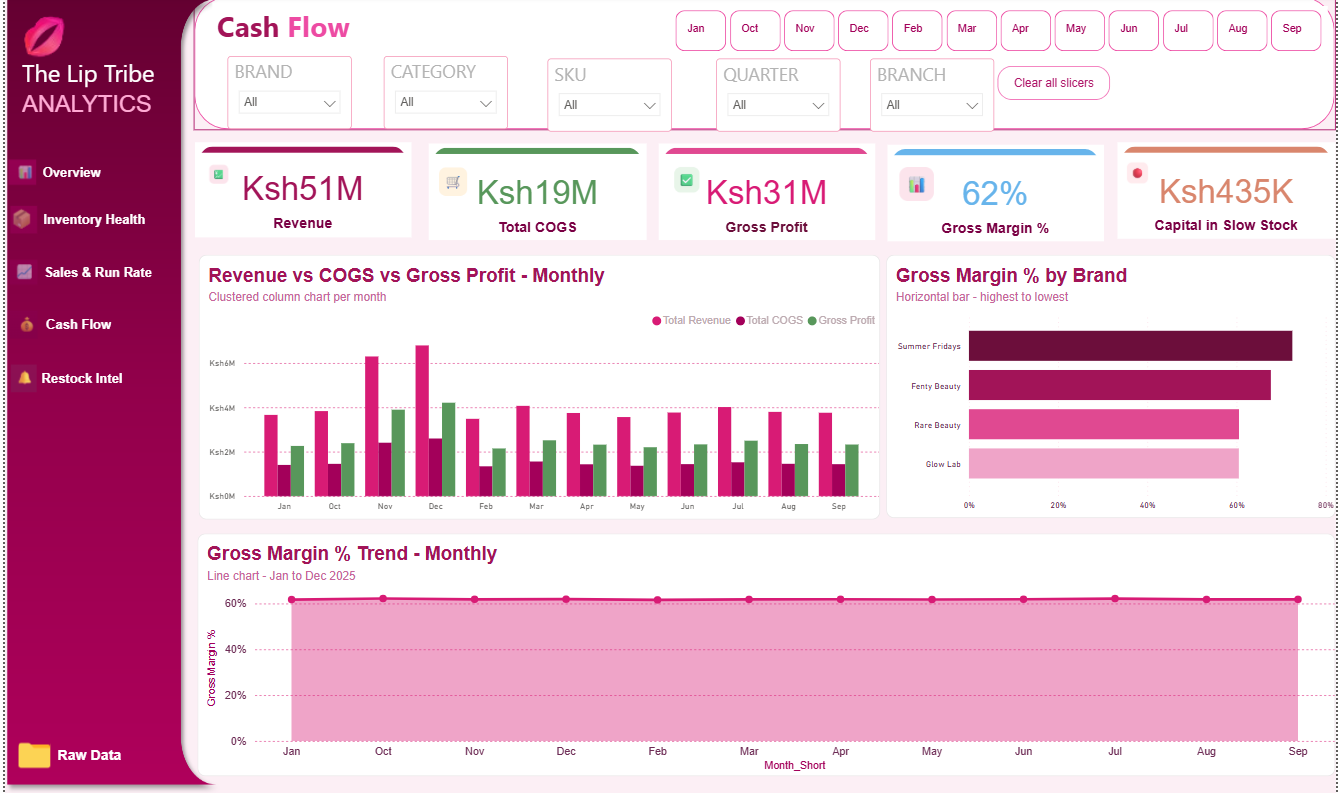

This screenshot's page, from the dashboard's own definition file:
{"tool":"powerbi","page":{"name":"Cash Flow","canvas":[1500,900],"ordinal":3},"visuals":[{"type":"textbox","box":[233.8,7.6,423.4,56.8],"z":0,"group":"g9"},{"type":"group","id":"g1","title":"Group 1","box":[214,165.1,244,107],"z":0,"group":"g6"},{"type":"shape","box":[212.5,0,1287,151.3],"z":1000},{"type":"advancedSlicerVisual","fields":{"Values":["Calendar.Month_Short"]},"box":[750.7,11.9,740,56.8],"z":1000,"group":"g9"},{"type":"group","id":"g2","title":"Group 2","box":[477,166.6,245.7,108.5],"z":1000,"group":"g6"},{"type":"clusteredColumnChart","title":"Revenue vs COGS vs Gross Profit - Monthly","fields":{"Category":["Calendar.Month_Short"],"Y":["Sales.Total Revenue","Sales.Total COGS","Sales.Gross Profit"]},"box":[218.6,292,767.9,298.1],"z":1000,"group":"g7"},{"type":"image","box":[0,0,246.1,900.3],"z":2000},{"type":"slicer","title":"BRAND","fields":{"Values":["Products.Brand"]},"box":[249.9,68.7,140.4,82.7],"z":2000,"group":"g9"},{"type":"group","id":"g3","title":"Group 3","box":[736.5,166.6,244,108.5],"z":2000,"group":"g6"},{"type":"textbox","title":"The Lip Tribe","box":[13.8,67.3,304.2,39.7],"z":3000},{"type":"slicer","title":"CATEGORY","fields":{"Values":["Products.Category"]},"box":[426.7,68.7,140.4,82.7],"z":3000,"group":"g9"},{"type":"group","id":"g4","title":"Group 4","box":[994.3,168.2,244,108.5],"z":3000,"group":"g6"},{"type":"lineChart","title":"Gross Margin % Trend - Monthly","fields":{"Category":["Calendar.Month_Short"],"Y":["Sales.Gross Margin %"]},"box":[217.1,605.3,1282.4,273.6],"z":3000,"group":"g8"},{"type":"slicer","title":"QUARTER","fields":{"Values":["Calendar.Quarter"]},"box":[801,70.3,140.4,82.7],"z":4000,"group":"g9"},{"type":"textbox","title":"ANALYTICS","box":[13.8,107,293.5,44.3],"z":4000},{"type":"group","id":"g5","title":"Group 5","box":[1253.8,165.1,245.7,108.5],"z":4000,"group":"g6"},{"type":"barChart","title":"Gross Margin % by Brand","fields":{"Category":["Products.Brand"],"Y":["Sales.Gross Margin %"]},"box":[993.4,292,506.1,296.5],"z":4000,"group":"g7"},{"type":"image","box":[0,7.6,89.2,71.3],"z":5000},{"type":"slicer","title":"SKU","fields":{"Values":["Products.SKU"]},"box":[610.4,70.3,140.4,82.7],"z":5000,"group":"g9"},{"type":"slicer","title":"BRANCH","fields":{"Values":["Products.Branch"]},"box":[974.3,70.3,140.4,82.7],"z":6000,"group":"g9"},{"type":"actionButton","box":[0,179.6,150.3,39.5],"z":6000},{"type":"actionButton","box":[1.3,231.8,198.7,39.5],"z":7000},{"type":"actionButton","box":[1.3,291.7,168.1,39.5],"z":8000},{"type":"actionButton","box":[1.3,350.3,122.3,39.5],"z":9000},{"type":"actionButton","box":[1.3,411.4,135,39.5],"z":10000},{"type":"group","id":"g6","title":"Group 6","box":[214,165.1,1285.5,111.6],"z":11000},{"type":"group","id":"g7","title":"Group 7","box":[218.6,292,1280.9,298.1],"z":12000},{"type":"group","id":"g8","title":"Group 8","box":[217.1,605.3,1282.4,273.6],"z":13000},{"type":"group","id":"g9","title":"Group 9","box":[10.7,7.6,1479.6,871.3],"z":14000},{"type":"cardVisual","fields":{"Data":["Sales.Total COGS"]},"box":[477,166.6,245.7,108.5],"z":14000,"group":"g2"},{"type":"actionButton","box":[1118.9,79.5,126.9,38.2],"z":15000},{"type":"cardVisual","fields":{"Data":["Sales.Total Revenue"]},"box":[214,165.1,244,107],"z":15000,"group":"g1"},{"type":"image","box":[218.6,151.3,48.9,100.9],"z":16000},{"type":"cardVisual","fields":{"Data":["Sales.Gross Profit"]},"box":[736.5,166.6,244,108.5],"z":16000,"group":"g3"},{"type":"actionButton","box":[10.7,834.8,123.8,43.8],"z":16008,"group":"g9"},{"type":"image","box":[476.9,168.1,55,84.1],"z":17000},{"type":"image","box":[736.8,183.4,64.2,48.9],"z":18000},{"type":"image","box":[993.6,183.4,70.3,58.1],"z":19000},{"type":"cardVisual","fields":{"Data":["Sales.Gross Margin %"]},"box":[994.3,168.2,244,108.5],"z":20000,"group":"g4"},{"type":"image","box":[1253.4,175.8,45.9,47.4],"z":20000},{"type":"cardVisual","fields":{"Data":["Sales.Capital in Slow Stock"]},"box":[1253.8,165.1,245.7,108.5],"z":22000,"group":"g5"}]}

Visuals, with their boxes on the page's 1500x900 design canvas (x1, y1, x2, y2). These are canvas units, not pixel positions in the 1338x793 screenshot, which may show the page scaled, cropped or inside an application window:
textbox: 234:8:657:64
"Group 1" group: 214:165:458:272
shape: 212:0:1500:151
advancedSlicerVisual - Calendar.Month_Short: 751:12:1491:69
"Group 2" group: 477:167:723:275
"Revenue vs COGS vs Gross Profit - Monthly" clusteredColumnChart: 219:292:986:590
image: 0:0:246:900
"BRAND" slicer: 250:69:390:151
"Group 3" group: 736:167:980:275
"The Lip Tribe" textbox: 14:67:318:107
"CATEGORY" slicer: 427:69:567:151
"Group 4" group: 994:168:1238:277
"Gross Margin % Trend - Monthly" lineChart: 217:605:1500:879
"QUARTER" slicer: 801:70:941:153
"ANALYTICS" textbox: 14:107:307:151
"Group 5" group: 1254:165:1500:274
"Gross Margin % by Brand" barChart: 993:292:1500:588
image: 0:8:89:79
"SKU" slicer: 610:70:751:153
"BRANCH" slicer: 974:70:1115:153
actionButton: 0:180:150:219
actionButton: 1:232:200:271
actionButton: 1:292:169:331
actionButton: 1:350:124:390
actionButton: 1:411:136:451
"Group 6" group: 214:165:1500:277
"Group 7" group: 219:292:1500:590
"Group 8" group: 217:605:1500:879
"Group 9" group: 11:8:1490:879
cardVisual - Sales.Total COGS: 477:167:723:275
actionButton: 1119:80:1246:118
cardVisual - Sales.Total Revenue: 214:165:458:272
image: 219:151:268:252
cardVisual - Sales.Gross Profit: 736:167:980:275
actionButton: 11:835:134:879
image: 477:168:532:252
image: 737:183:801:232
image: 994:183:1064:242
cardVisual - Sales.Gross Margin %: 994:168:1238:277
image: 1253:176:1299:223
cardVisual - Sales.Capital in Slow Stock: 1254:165:1500:274
